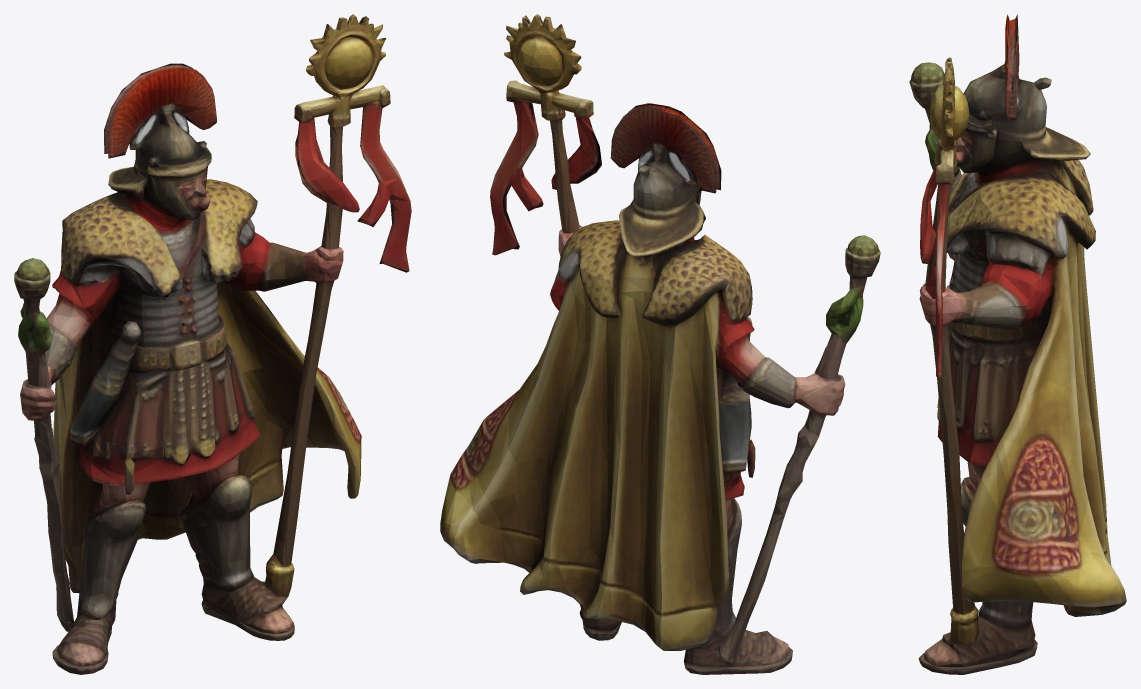
File: legionOptio.glb
3 views of the same model, side by side, from view 1: azimuth 30°, elevation 25°; view 2: azimuth 150°, elevation 25°; view 3: azimuth 270°, elevation 25° (orthographic). The views are drawn at different scales.
Visible parts, largest first — view 1: world; view 2: world; view 3: world.
Boxes of the visible parts, x1,y1,x2,y2 form: world: [14, 14, 411, 674]; world: [440, 14, 880, 674]; world: [909, 14, 1126, 674].
Bounding box in the file's own units: 0.6997 × 0.9993 × 0.3075.
1 material, 1 textured.
